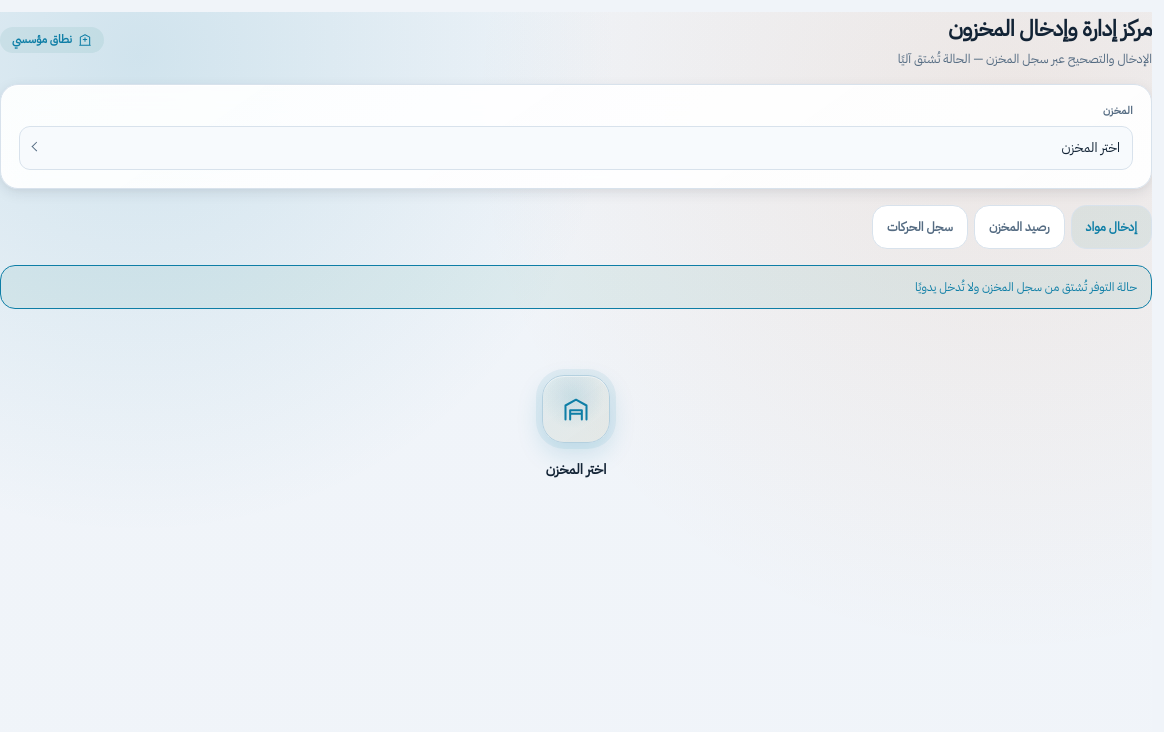
reproduction — how B settling resolves (denied / failed / stale-after-fresh) › an OLDER response (from a warehouse that is no longer selected) arriving LATE must not replace the CURRENT one
Select "مخزن wh-A" in the dropdown labelled "المخزن" at (576, 148), box [19,126,1133,170]
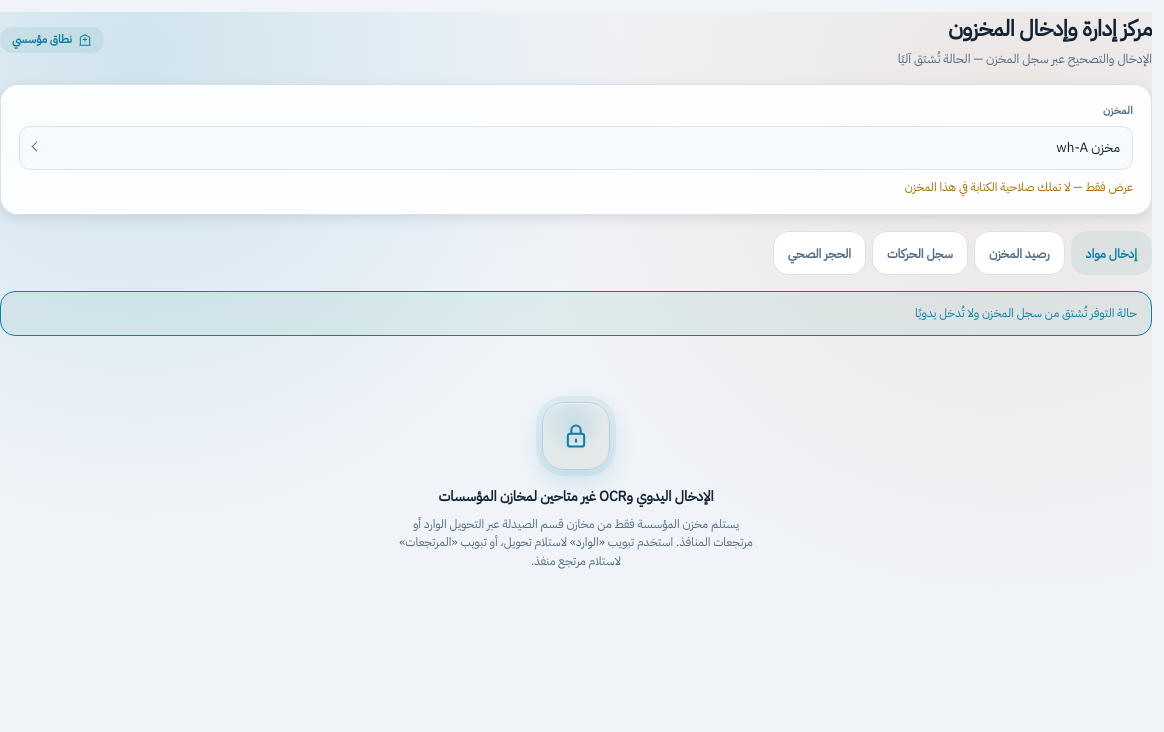
Result: the tab "الحجر الصحي" is shown
Click the tab "الحجر الصحي" at (819, 253), box [773,231,866,275]
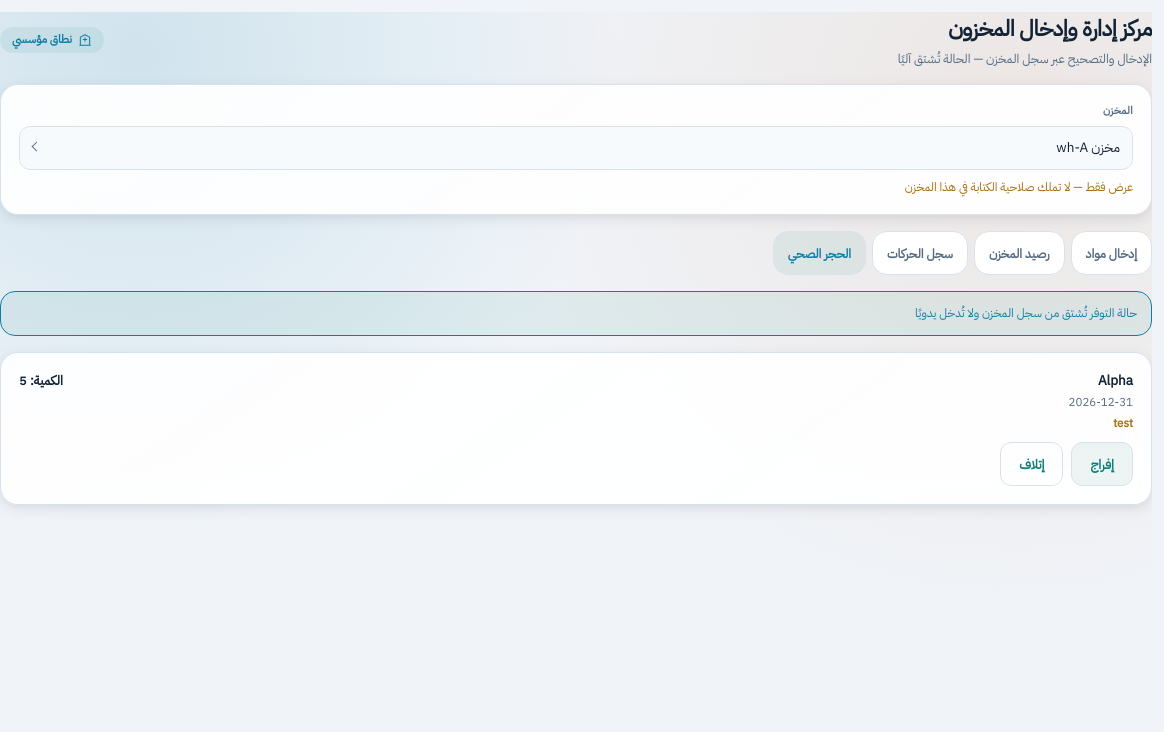
Result: the text "Alpha" is shown at [1098,370,1133,391]
Select "مخزن wh-B" in the dropdown labelled "المخزن" at (576, 148), box [19,126,1133,170]
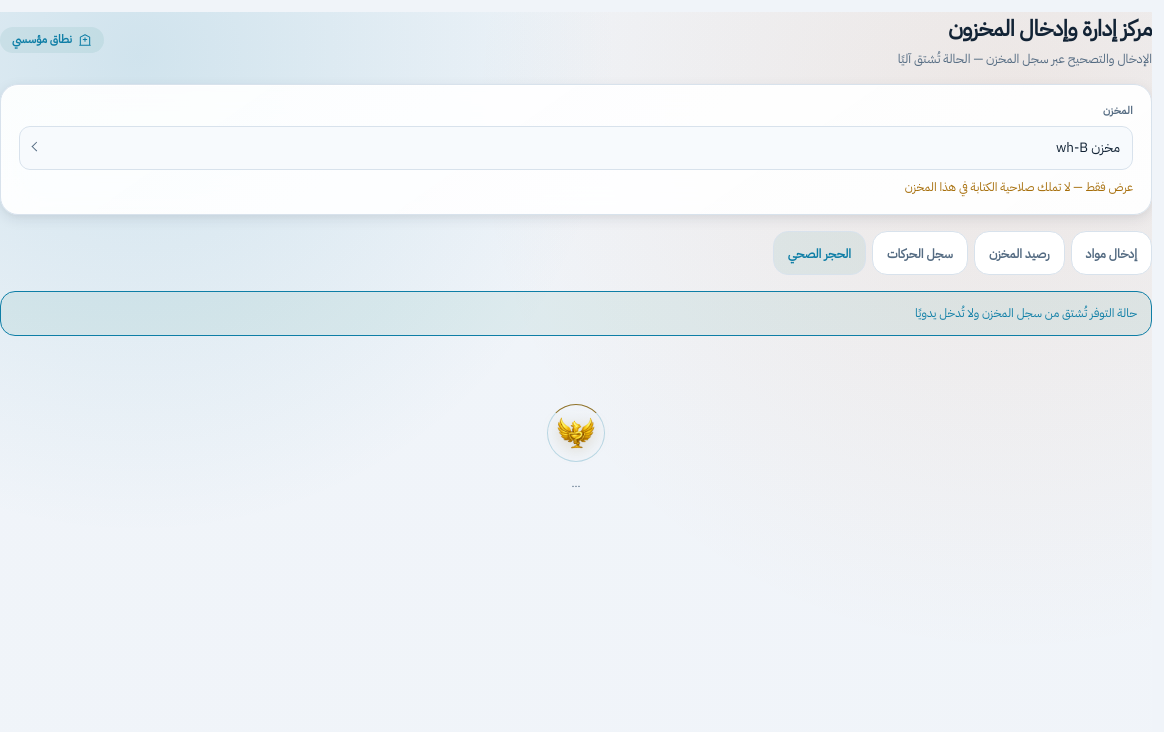
Select "مخزن wh-C" in the dropdown labelled "المخزن" at (576, 148), box [19,126,1133,170]
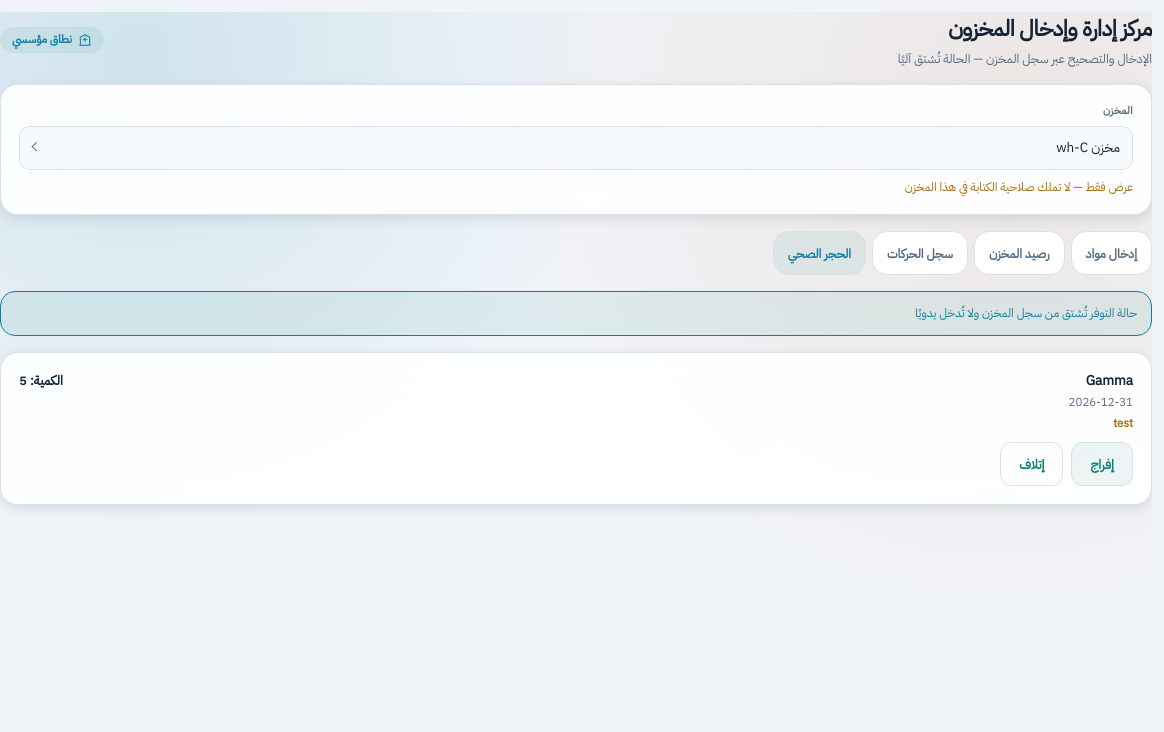
Result: the button "إفراج" is shown at [1072,442,1133,486]
Result: the text "Gamma" is shown at [1086,370,1133,391]
